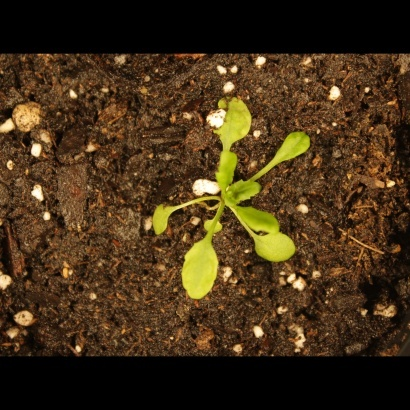leaf: (180, 234, 221, 305), (207, 94, 254, 145), (251, 229, 300, 269), (230, 200, 281, 235), (275, 124, 315, 167), (221, 177, 265, 207), (143, 201, 175, 236), (215, 148, 238, 195), (202, 212, 225, 235)
